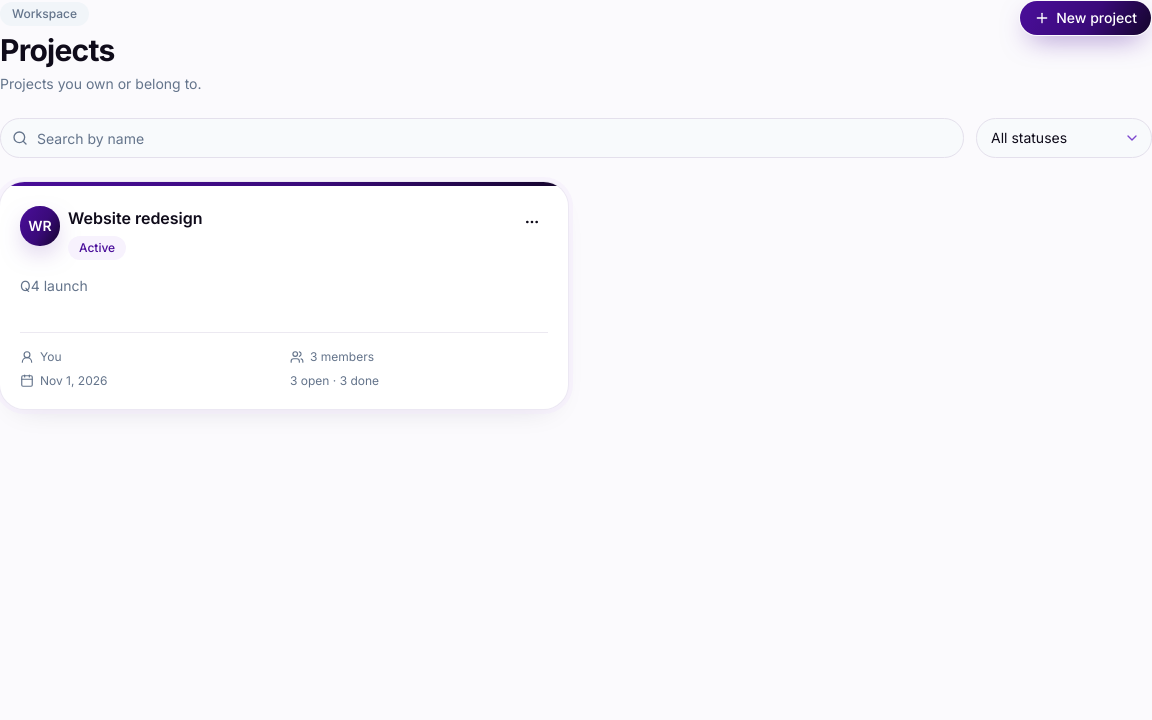
Scenario: delete › deletes with the CSRF header and refreshes the list
Expected: the heading "Projects" is shown, x1=0 y1=32 x2=114 y2=68
Click the button named "Actions for Website redesign" at x=532, y=222, box x1=516 y1=206 x2=548 y2=238
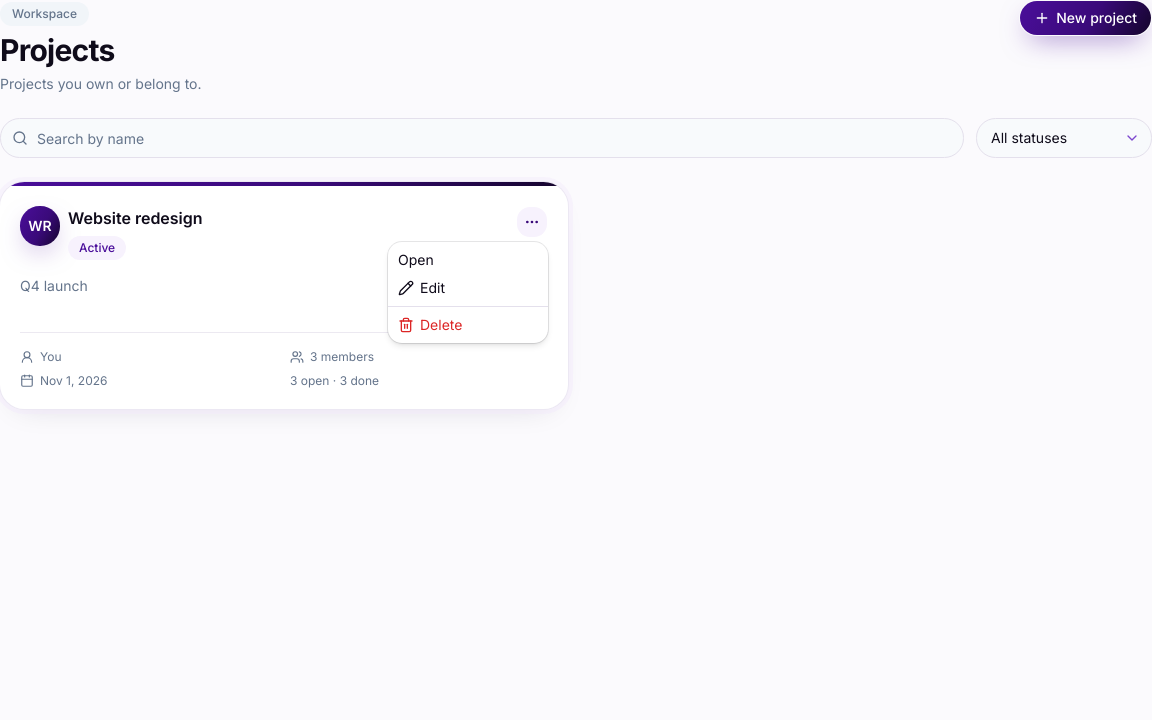
Click the menu item "Delete" at x=430, y=324, box x1=398 y1=316 x2=462 y2=333
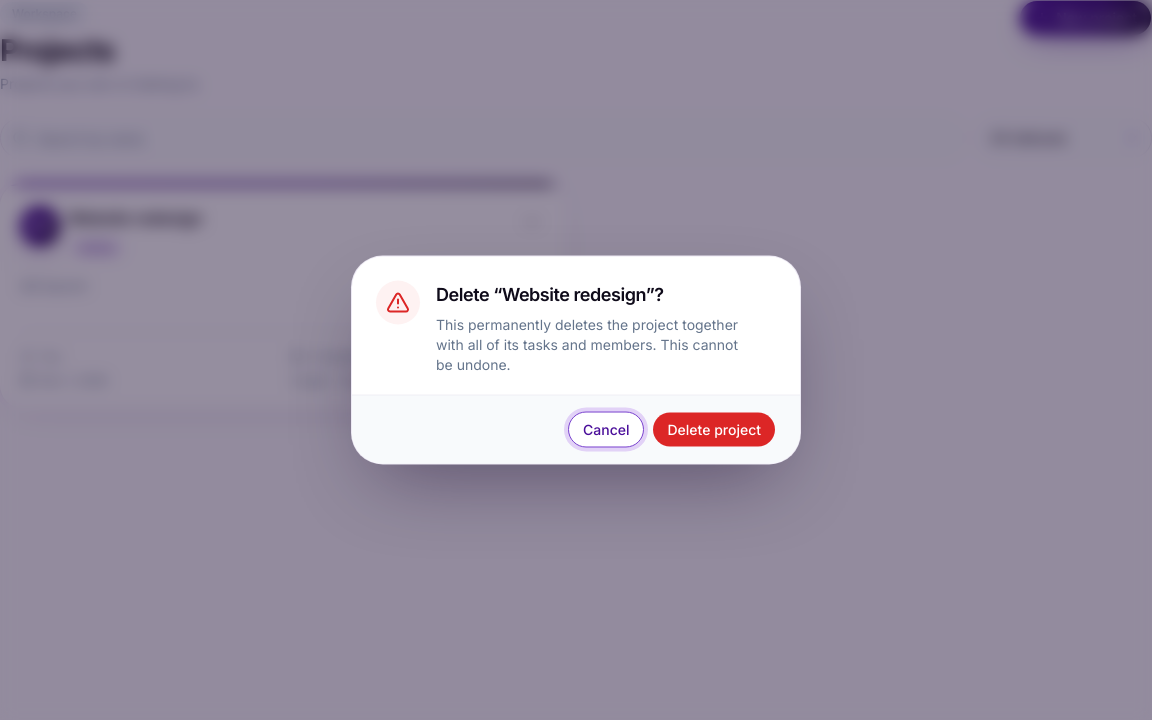
Click the button "Delete project" at x=714, y=430, box x1=652 y1=412 x2=776 y2=448
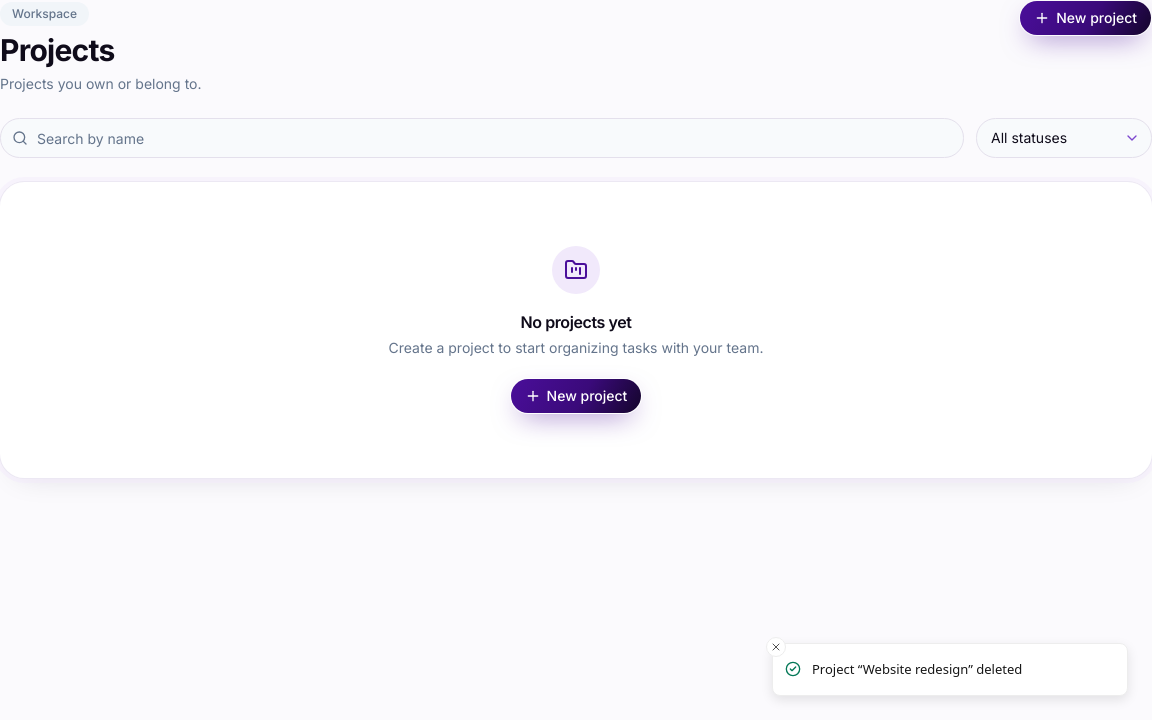
Now the heading "No projects yet" is shown, box x1=520 y1=310 x2=632 y2=334
